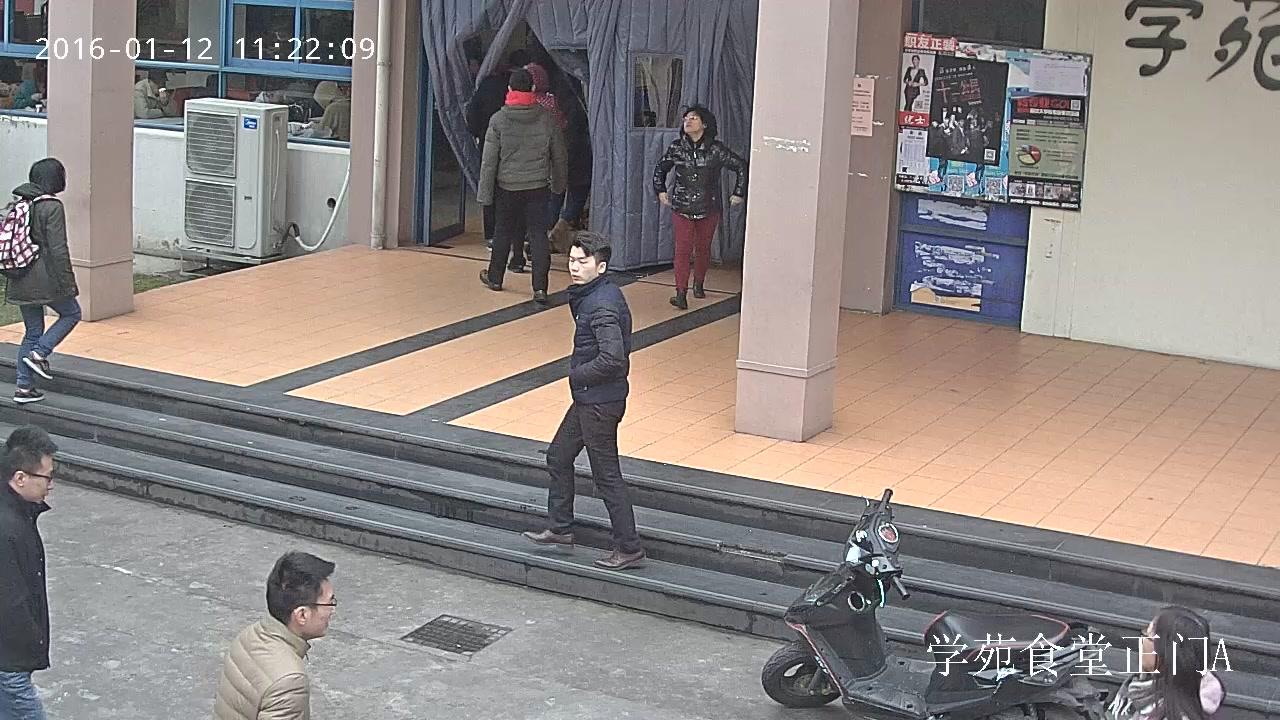person: (521, 231, 648, 570), (209, 549, 337, 720), (477, 67, 567, 303), (0, 157, 81, 402), (653, 106, 748, 310), (0, 424, 60, 720), (505, 61, 572, 274), (1105, 605, 1224, 720), (471, 72, 526, 254), (545, 68, 591, 255), (308, 79, 350, 140), (132, 68, 176, 119), (12, 68, 45, 113), (902, 54, 928, 111)
